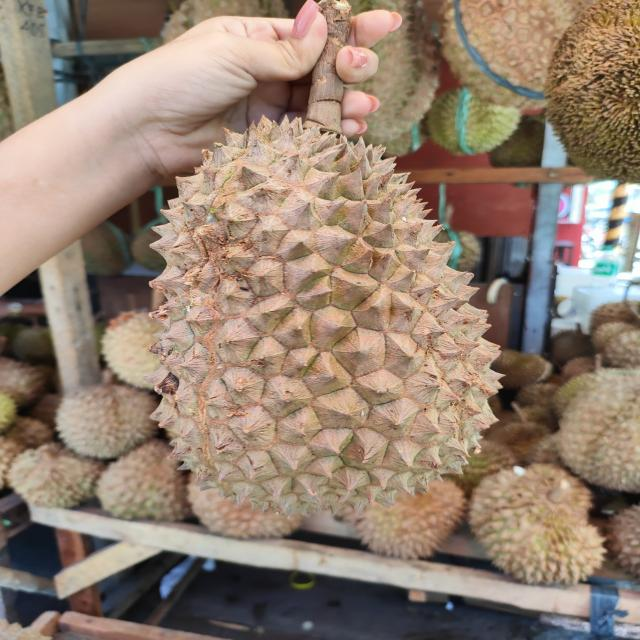mature: (146, 117, 508, 517)
